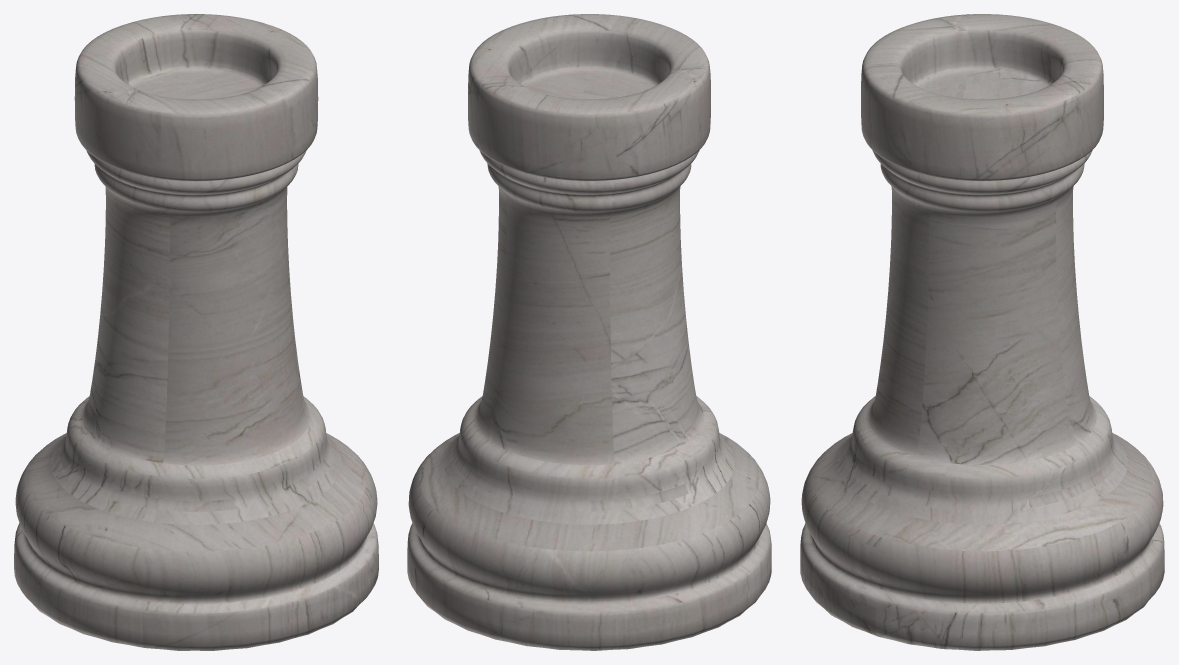
Rendered from WRook.glb.
3 renders of one model, left to right at view 1: azimuth 30°, elevation 25°; view 2: azimuth 150°, elevation 25°; view 3: azimuth 270°, elevation 25°, orthographic.
Parts seen in each view (by area): view 1: Circle.020; view 2: Circle.020; view 3: Circle.020.
Boxes of the visible parts, left/top/right/bottom form: Circle.020: left=14, top=14, right=378, bottom=650; Circle.020: left=407, top=14, right=771, bottom=650; Circle.020: left=800, top=14, right=1164, bottom=650.
Bounding box in the file's own units: 2.67 × 4.19 × 2.67.
Materials: 1 (1 with a texture image).
